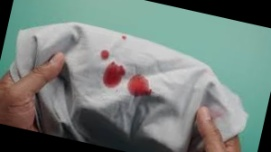blood: (101, 61, 127, 90), (125, 73, 154, 98), (100, 49, 110, 60)
